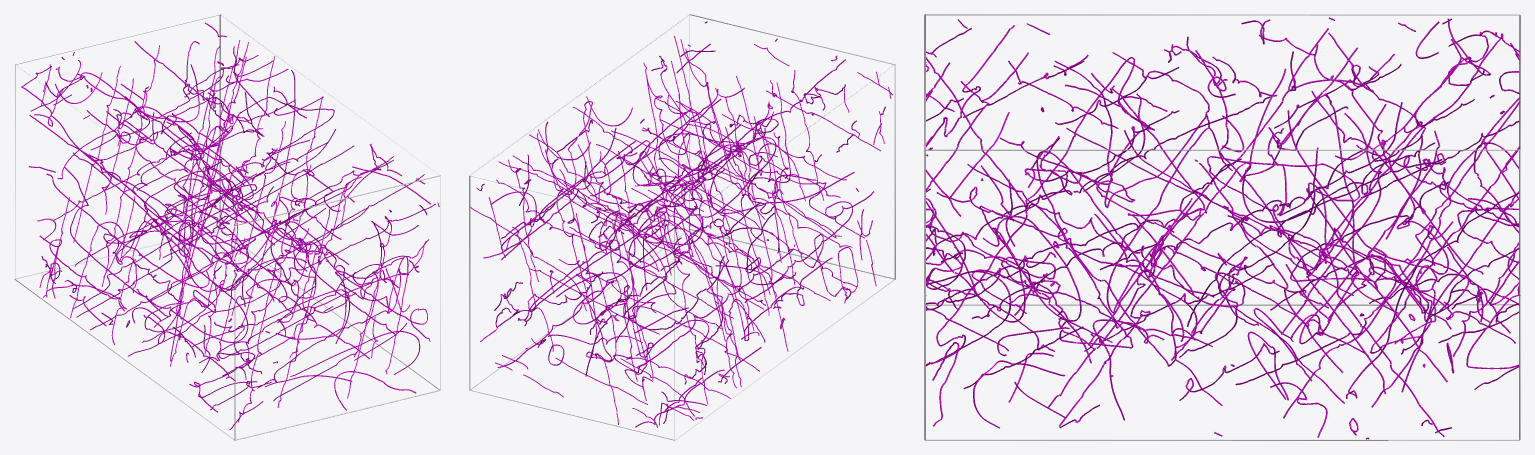
The picture shows the model from 3 angles, left to right: view 1: azimuth 30°, elevation 25°; view 2: azimuth 150°, elevation 25°; view 3: azimuth 270°, elevation 25°; orthographic projection. The views are drawn at different scales.
Parts seen in each view (by area): view 1: Shape_IndexedLineSet.001, Shape_IndexedLineSet; view 2: Shape_IndexedLineSet.001, Shape_IndexedLineSet; view 3: Shape_IndexedLineSet.001, Shape_IndexedLineSet.
Boxes of the visible parts, x1=… form: Shape_IndexedLineSet.001: x1=21, y1=22, x2=439, y2=429; Shape_IndexedLineSet: x1=14, y1=14, x2=440, y2=440; Shape_IndexedLineSet.001: x1=470, y1=21, x2=893, y2=427; Shape_IndexedLineSet: x1=469, y1=14, x2=895, y2=440; Shape_IndexedLineSet.001: x1=926, y1=17, x2=1520, y2=439; Shape_IndexedLineSet: x1=924, y1=14, x2=1520, y2=440.
Size of the model in its own units: 239 by 239 by 443.
